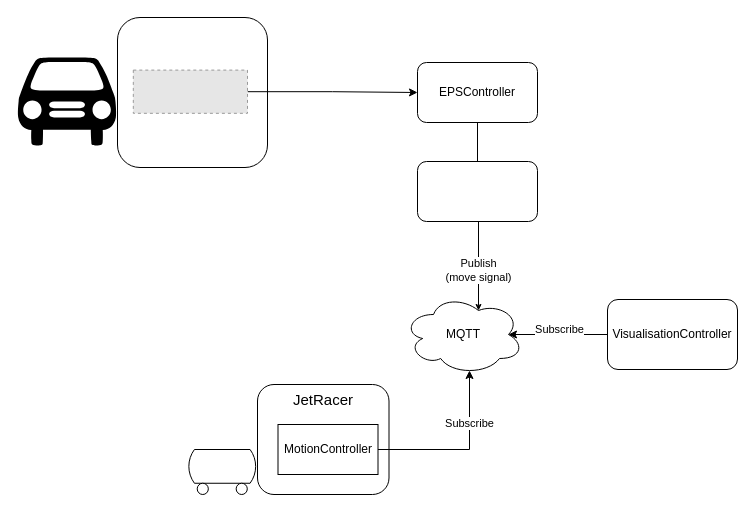
Image size: 755x512. Some labels were removed from this diagram. Grey dashed boxes stand in for pictures. Each missing label, with the box of its shape:
MQTTBridge: (416, 160, 538, 222)
TestVehicle: (116, 16, 268, 168)
